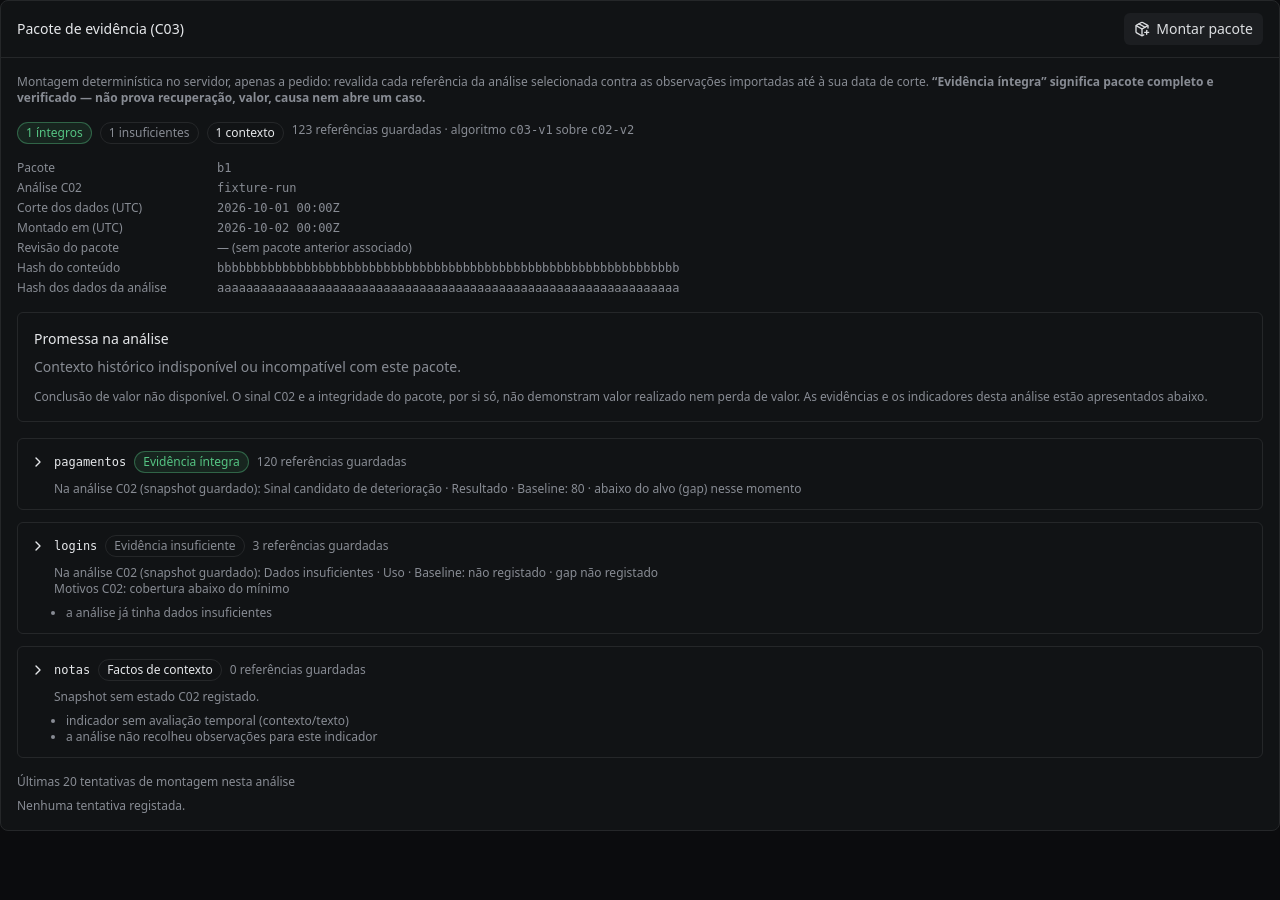
Test: EvidencePanel (C03 UI, controlled requests — not a real backend) › paginates refs by ordinal with tenant+bundle+indicator filters and waits for page 2 data
Click the text "pagamentos".
click(90, 462)  # box [54,454,126,470]
(page scrolled)
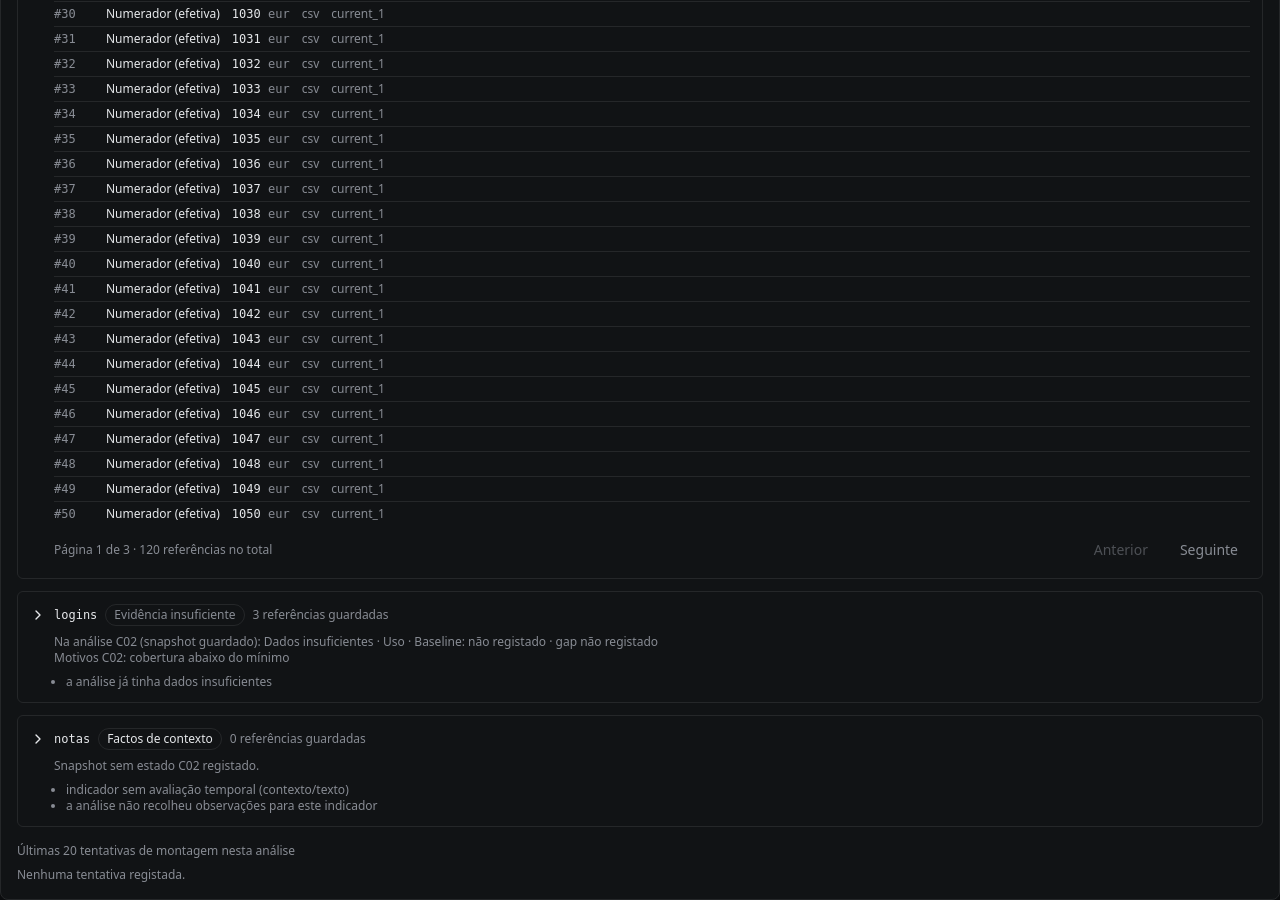
Expected: the text "Página 1 de 3 · 120 referências no total" is shown, [54,542,272,558]
Click the button "Seguinte".
click(1209, 550)  # box [1168,534,1250,566]
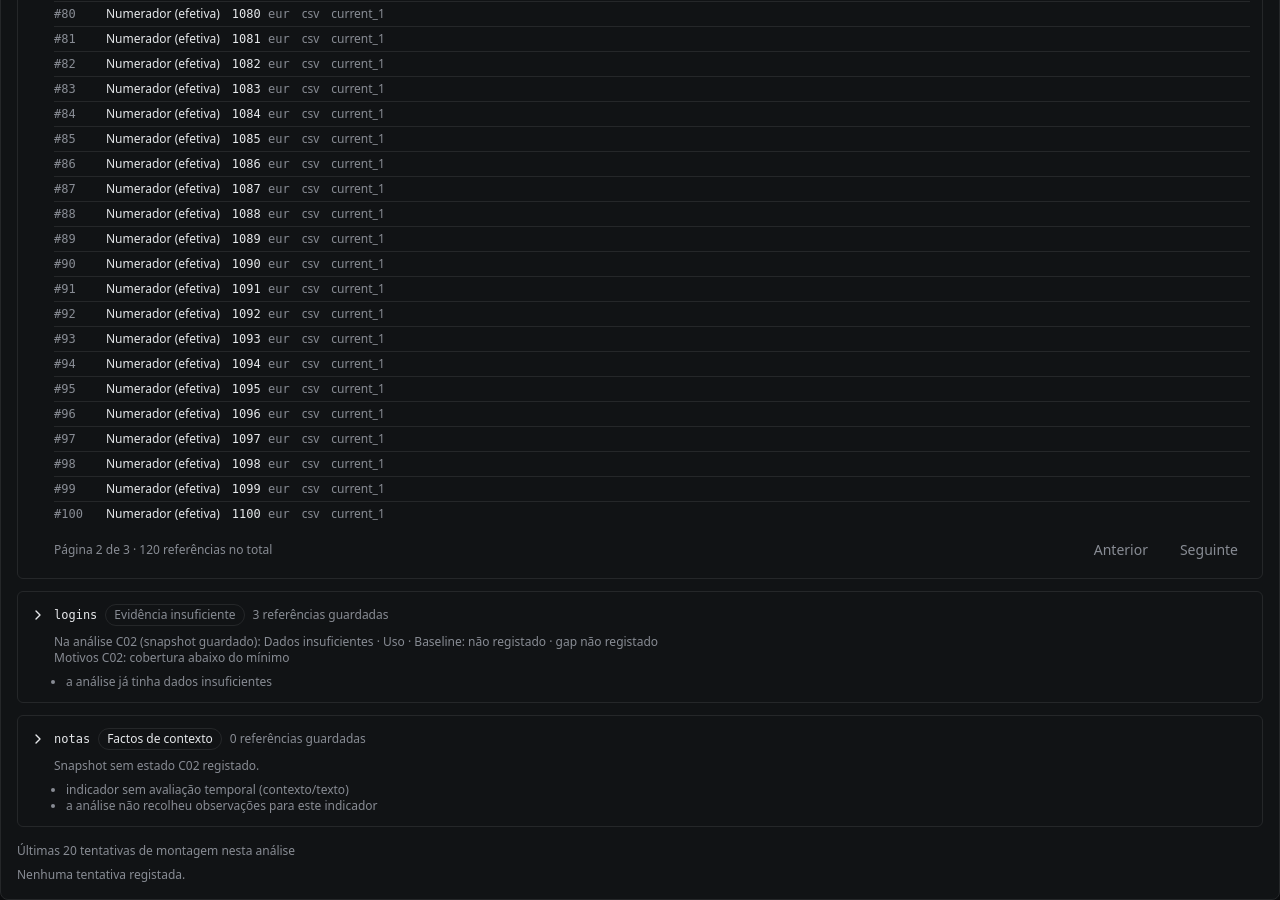
Expected: the text "Página 2 de 3 · 120 referências no total" is shown, [54,542,272,558]
Expected: the button with aria-label "Detalhe da referência 100" is shown, [54,506,1250,522]
